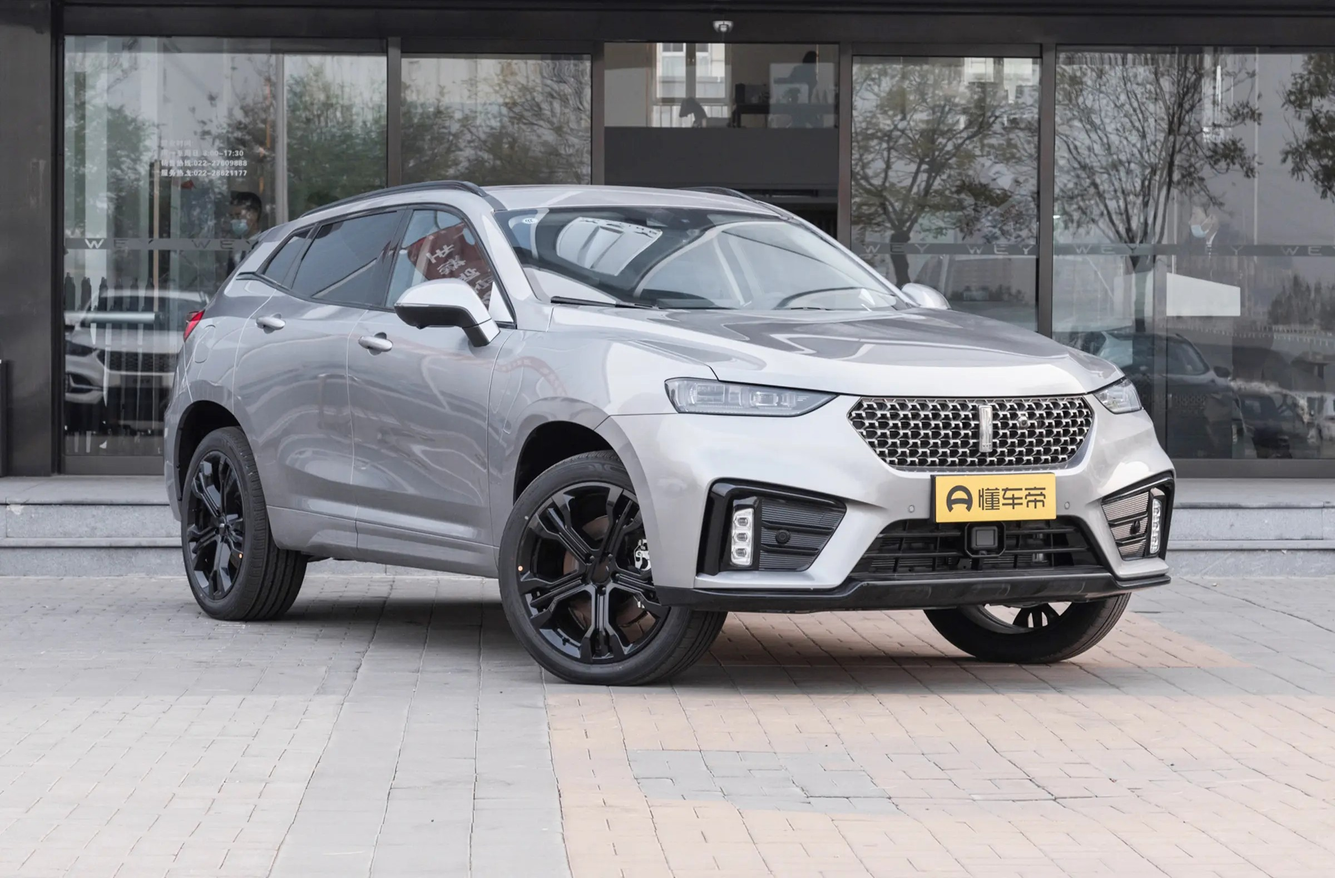WEY: (980, 406, 992, 451)
